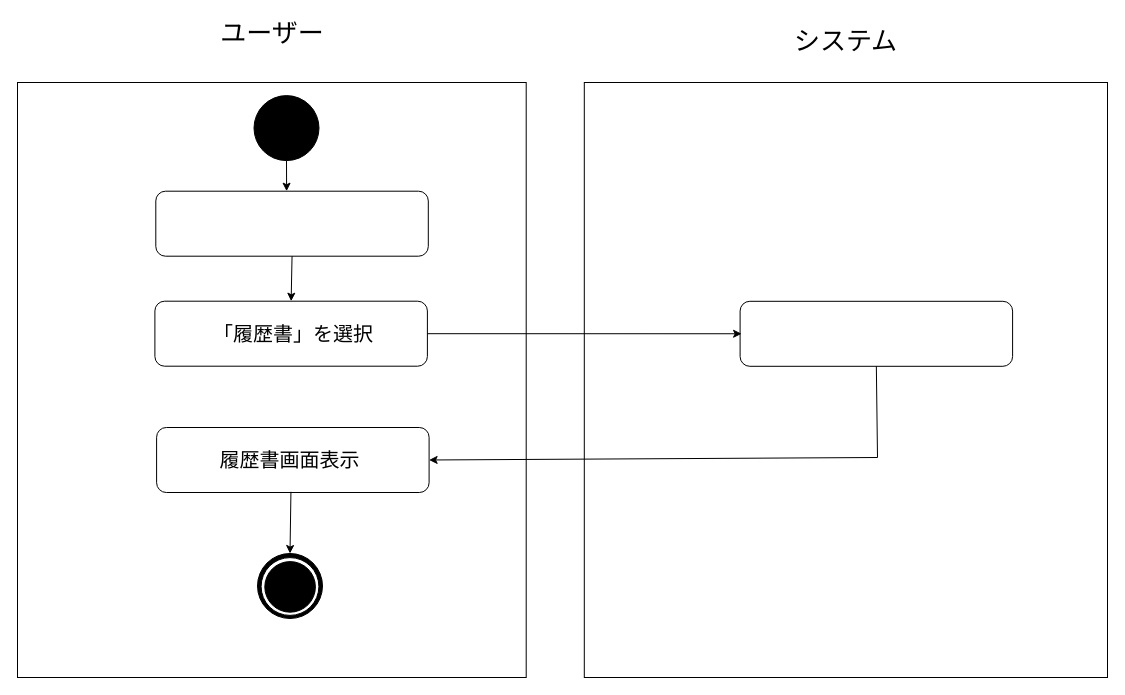
This 1125x695 diagram has some shape labels left out. The shapes that lost their labels are listed below. From the top down, each one's box as (x1, y1, x2, y2) in pixels, then its label:
(155, 190, 428, 256): 配達員詳細画面表示
(739, 300, 1013, 366): 履歴書画面生成
